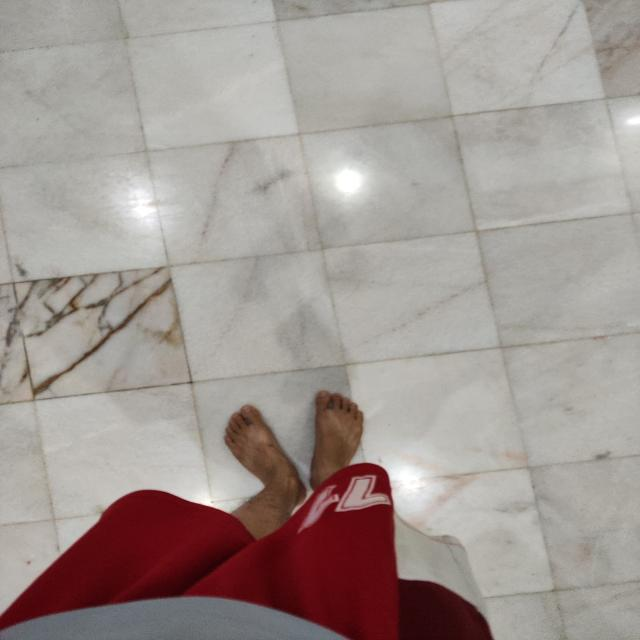No_Shoes: (311, 362, 393, 492), (207, 392, 295, 509)
